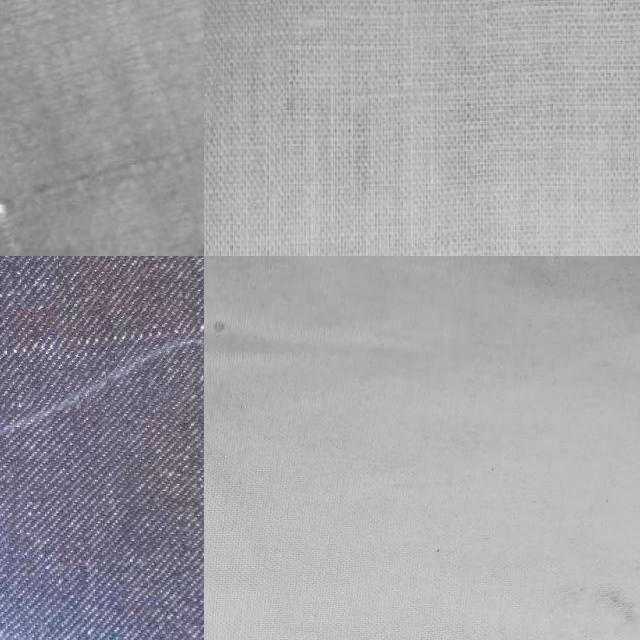Thread_other: (452, 495, 640, 640), (204, 263, 310, 417)
other: (0, 155, 36, 256)
stains: (0, 256, 204, 428)
